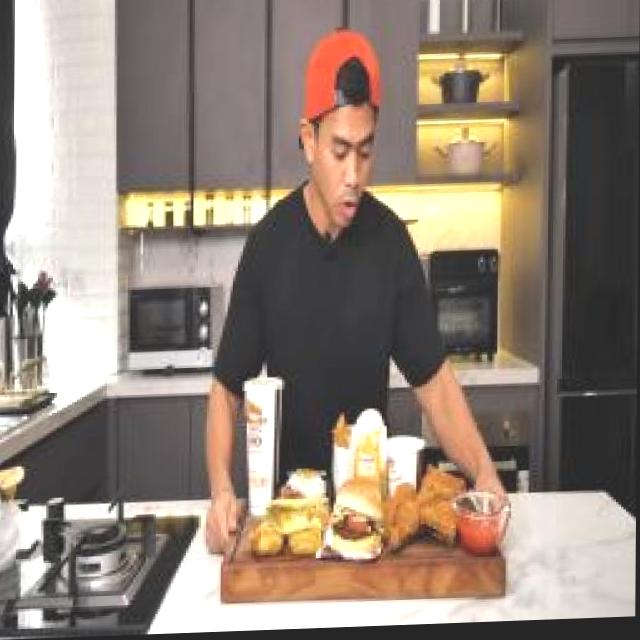AW cola: (242, 364, 288, 523)
black pepper rice bowl: (275, 470, 330, 505)
chicken waffle: (335, 427, 358, 463)
crispy corn: (382, 427, 432, 494)
french fries: (355, 417, 389, 471)
fried chicken: (382, 464, 467, 567)
mango chicken pocket: (264, 490, 332, 542)
mozza burger: (332, 484, 380, 560)
perkedel: (250, 514, 285, 563), (289, 528, 327, 565)
